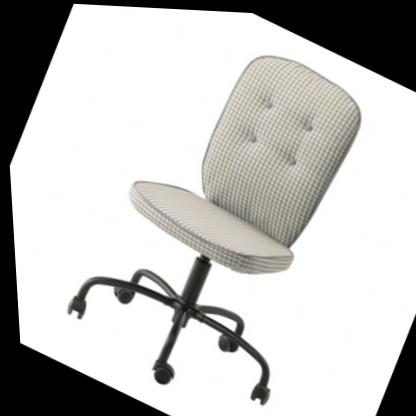Chair: (33, 1, 399, 416)
